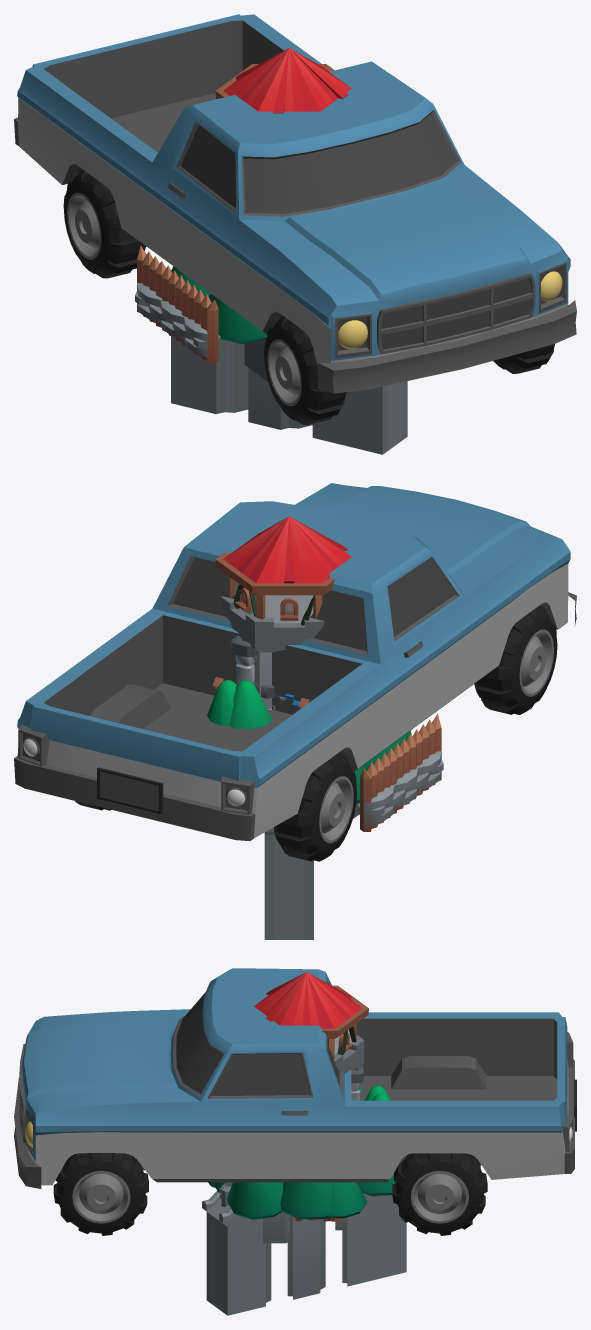
Rendered from kit.glb.
3 views of the same model, one above another, from view 1: azimuth 30°, elevation 25°; view 2: azimuth 150°, elevation 25°; view 3: azimuth 270°, elevation 25° (orthographic). The views are drawn at different scales.
Parts seen in each view (by area): view 1: BackWheels, building_bridge_A, building_tower_A_red, fence_wood_straight, fence_stone_straight, trees_B_large, Pickup, building_watermill_blue; view 2: BackWheels, building_tower_A_red, building_bridge_A, fence_wood_straight, fence_stone_straight, trees_B_large, building_home_B_blue, trees_B_medium; view 3: BackWheels, building_bridge_A, building_tower_A_red, trees_B_large, trees_B_medium, building_watermill_blue.
Boxes of the visible parts, left/top/right/bottom form: BackWheels: left=14, top=14, right=576, bottom=424; building_bridge_A: left=171, top=336, right=407, bottom=454; building_tower_A_red: left=215, top=48, right=351, bottom=113; fence_wood_straight: left=137, top=245, right=218, bottom=363; fence_stone_straight: left=135, top=283, right=220, bottom=357; trees_B_large: left=171, top=266, right=267, bottom=343; Pickup: left=338, top=271, right=562, bottom=349; building_watermill_blue: left=244, top=339, right=268, bottom=381; BackWheels: left=14, top=483, right=576, bottom=861; building_tower_A_red: left=215, top=516, right=351, bottom=710; building_bridge_A: left=264, top=827, right=313, bottom=939; fence_wood_straight: left=360, top=713, right=441, bottom=831; fence_stone_straight: left=357, top=751, right=443, bottom=830; trees_B_large: left=229, top=680, right=411, bottom=802; building_home_B_blue: left=212, top=635, right=309, bottom=708; trees_B_medium: left=207, top=680, right=394, bottom=769; BackWheels: left=14, top=968, right=576, bottom=1235; building_bridge_A: left=202, top=1191, right=406, bottom=1315; building_tower_A_red: left=254, top=972, right=368, bottom=1073; trees_B_large: left=208, top=1085, right=390, bottom=1221; trees_B_medium: left=214, top=1085, right=395, bottom=1220; building_watermill_blue: left=219, top=1182, right=346, bottom=1243.
Bounding box in the file's own units: 2.31 × 3.19 × 5.18.
7 materials, 2 textured.
